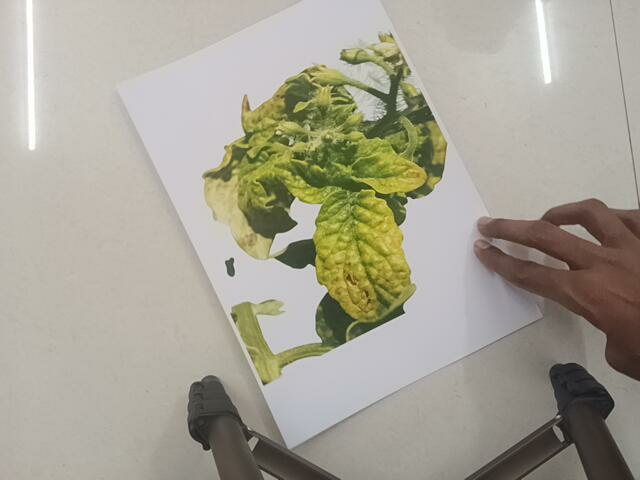Tomamto_Leaf_curl_virus: (194, 54, 441, 358)
